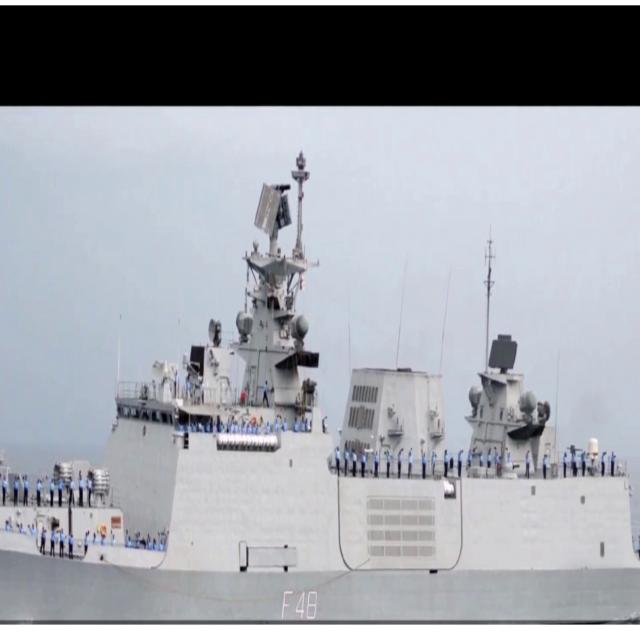OCR: (270, 585, 322, 622)
